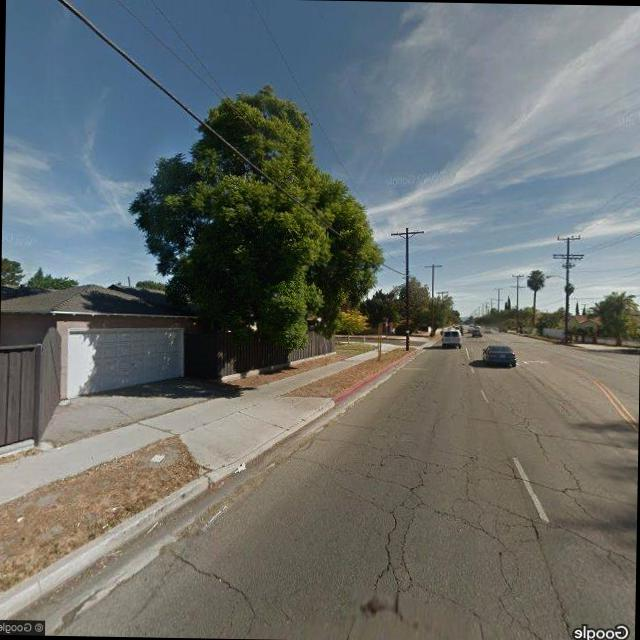crack: (155, 374, 636, 640)
